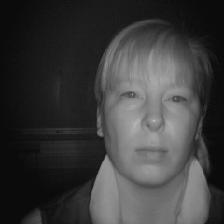normal: (92, 7, 212, 194)
